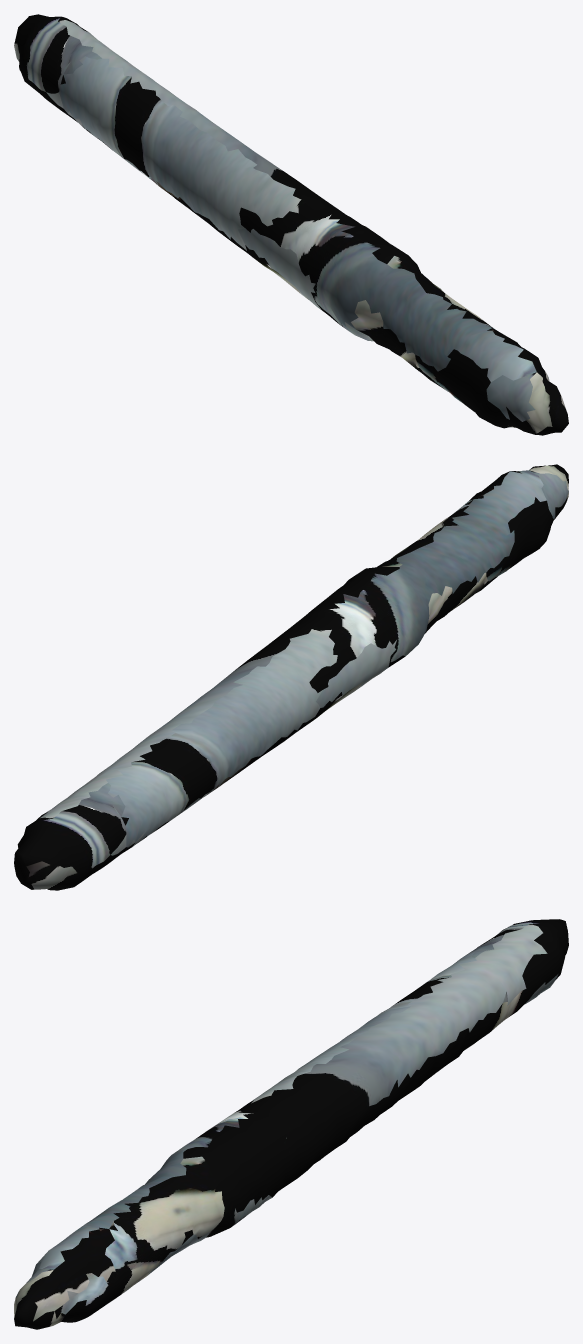
The model's file is scan_align.obj.
3 views of the same model, one above another, from view 1: azimuth 30°, elevation 25°; view 2: azimuth 150°, elevation 25°; view 3: azimuth 330°, elevation 25° (orthographic).
Bounding box in the file's own units: 0.0108 × 0.0109 × 0.1237.
